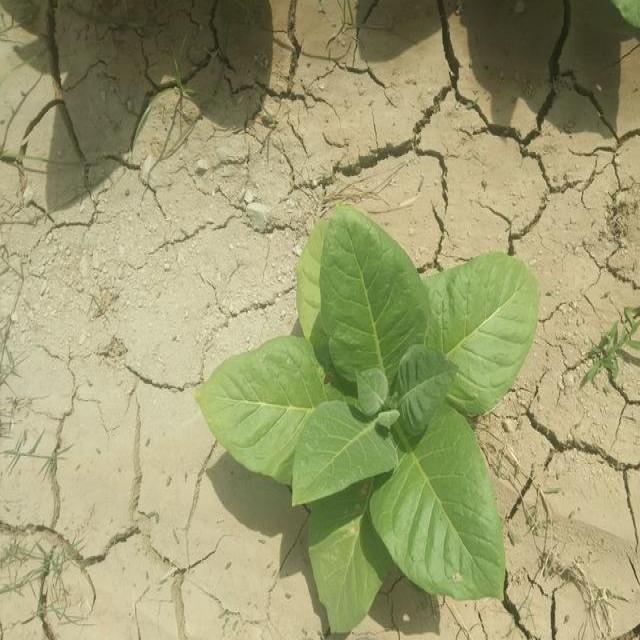crop: (197, 211, 537, 614)
